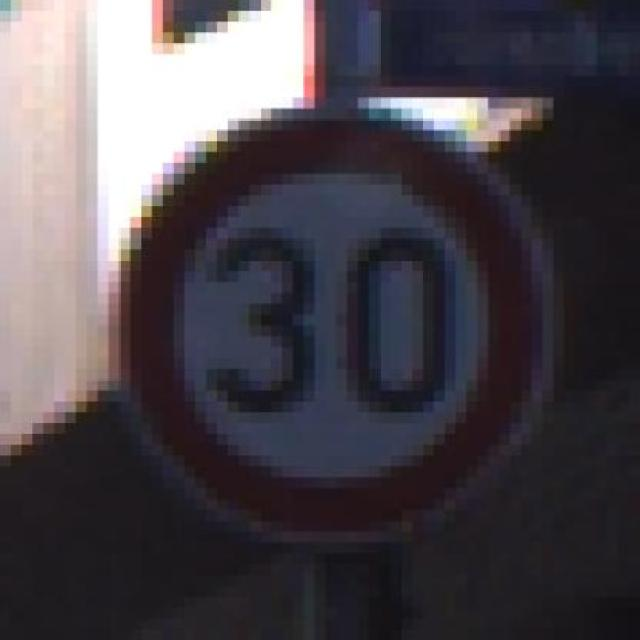Speed Limit 30 KMPh: (65, 76, 586, 564)
